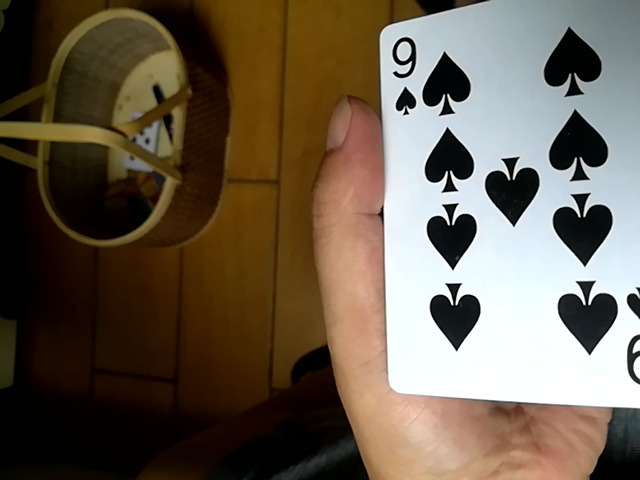ht 9: (374, 4, 640, 421)
